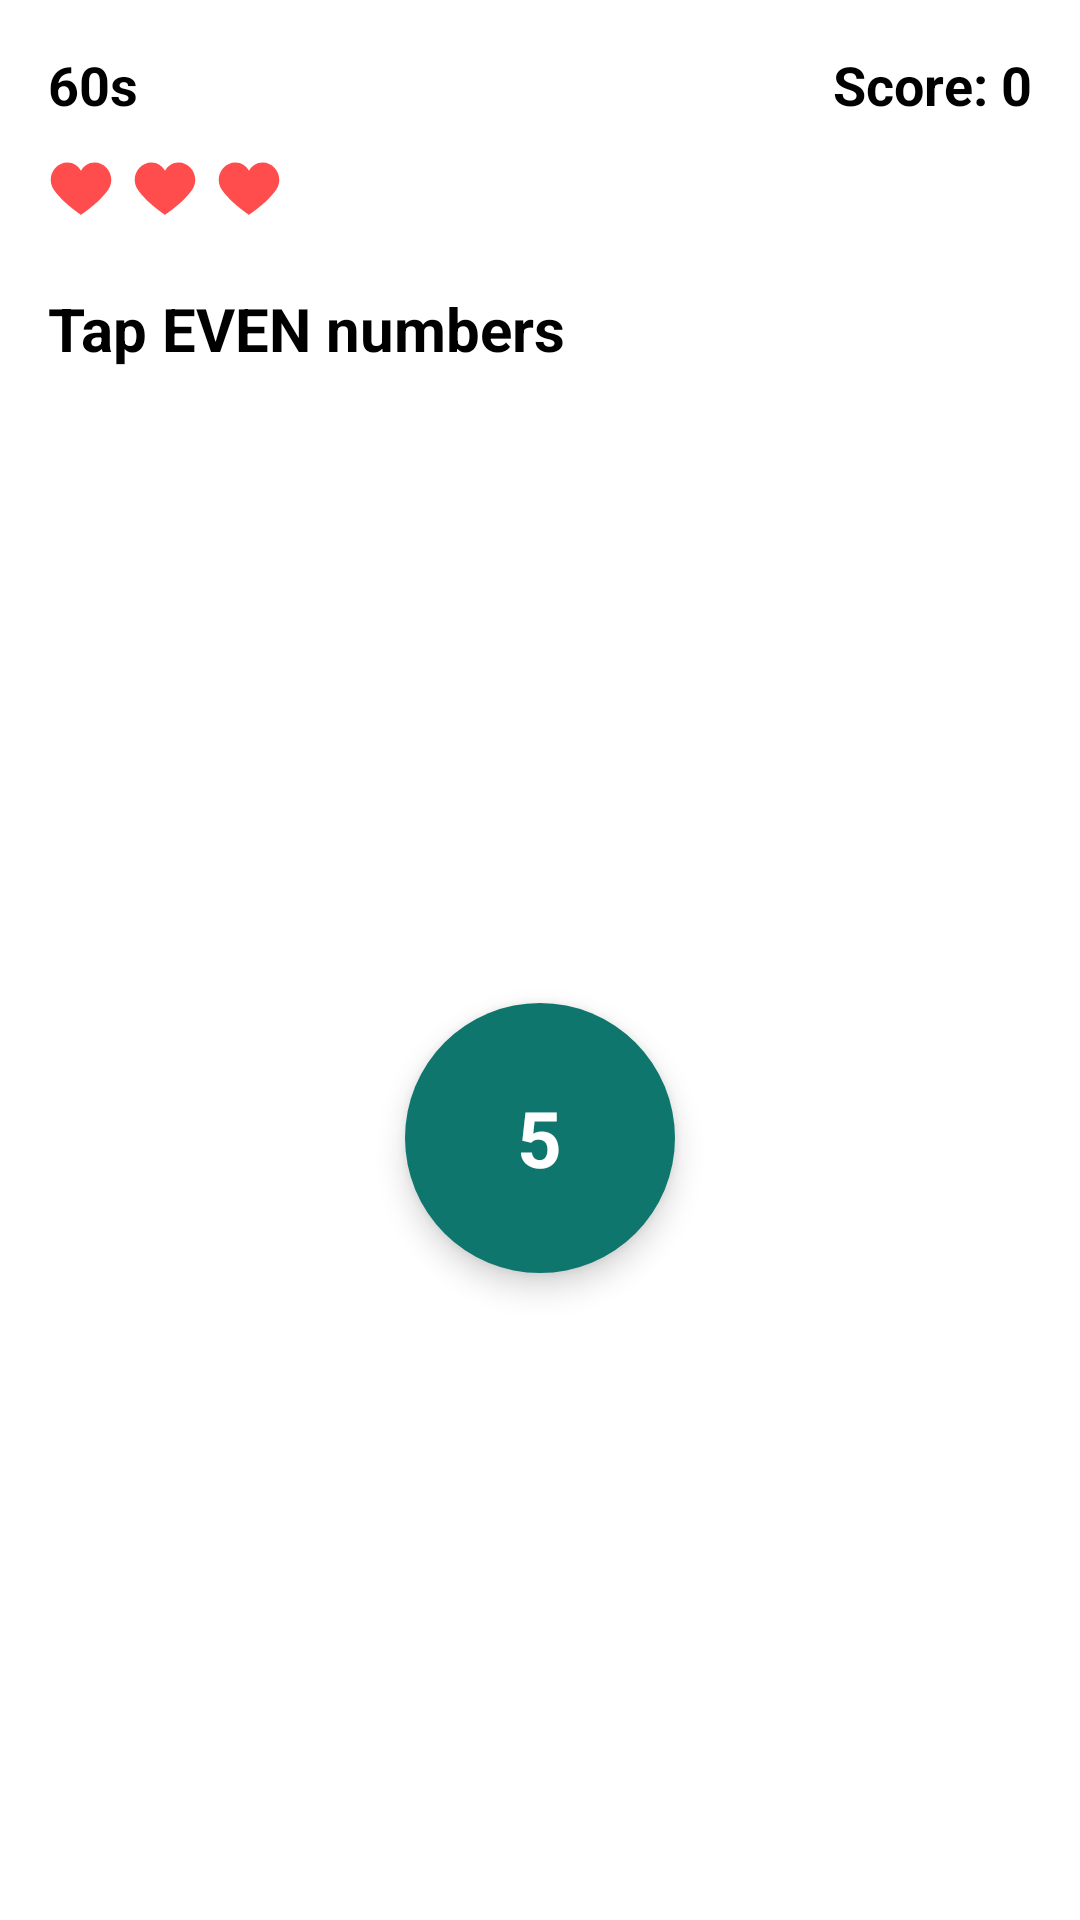

Icon bounding boxes for this 1080 × 1920 phone screenshot, format (x1, y1, x2, y2):
heart full: (50, 162, 112, 215), (134, 162, 196, 215), (218, 162, 280, 215)
